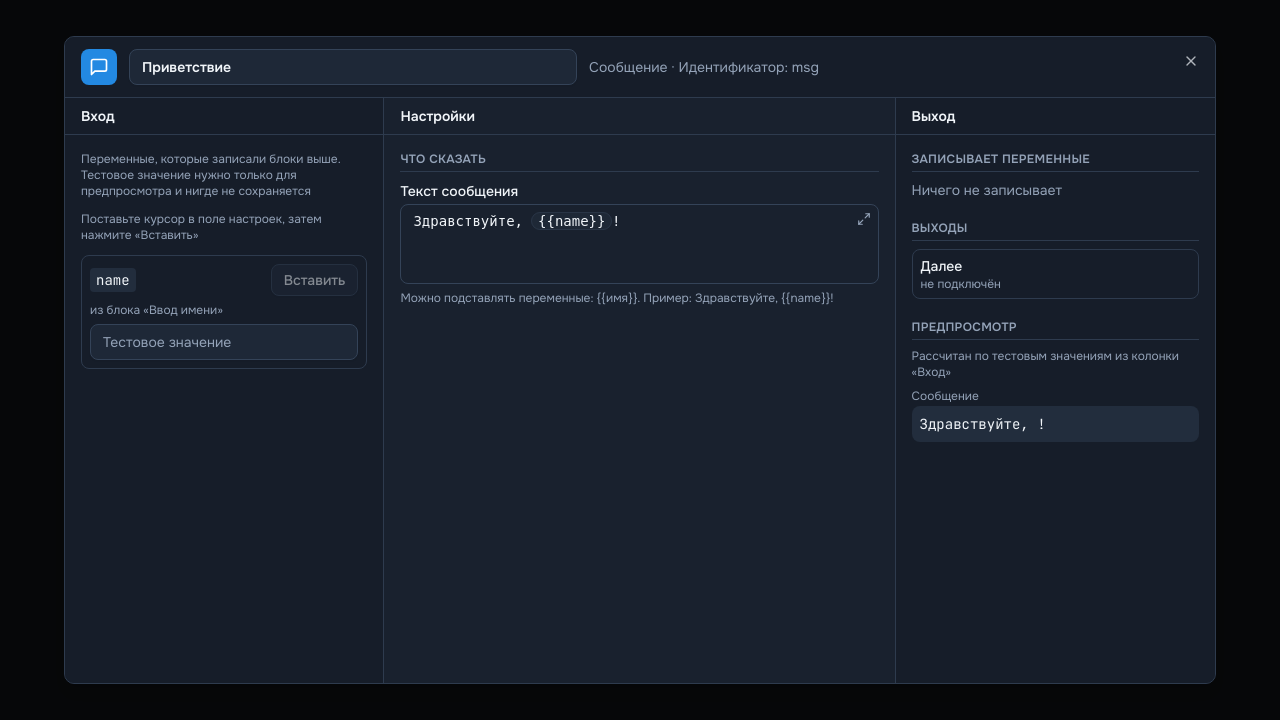
Test: BlockDialog › «Результат» в поле настроек использует тестовые значения из колонки «Вход»
Type "Анна" into the field named "Тестовое значение: name" at (224, 342), box [90,324,358,360]
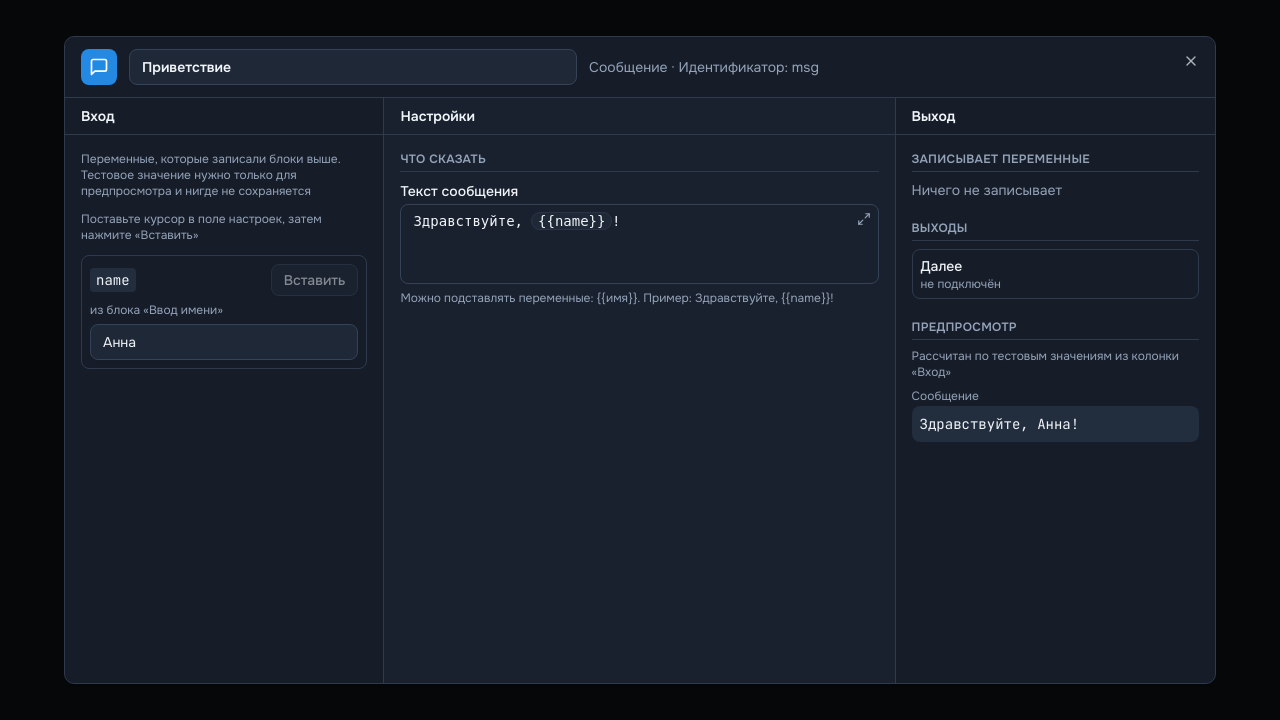
Focus the field named "Текст сообщения" at (517, 221), box [413,212,620,230]
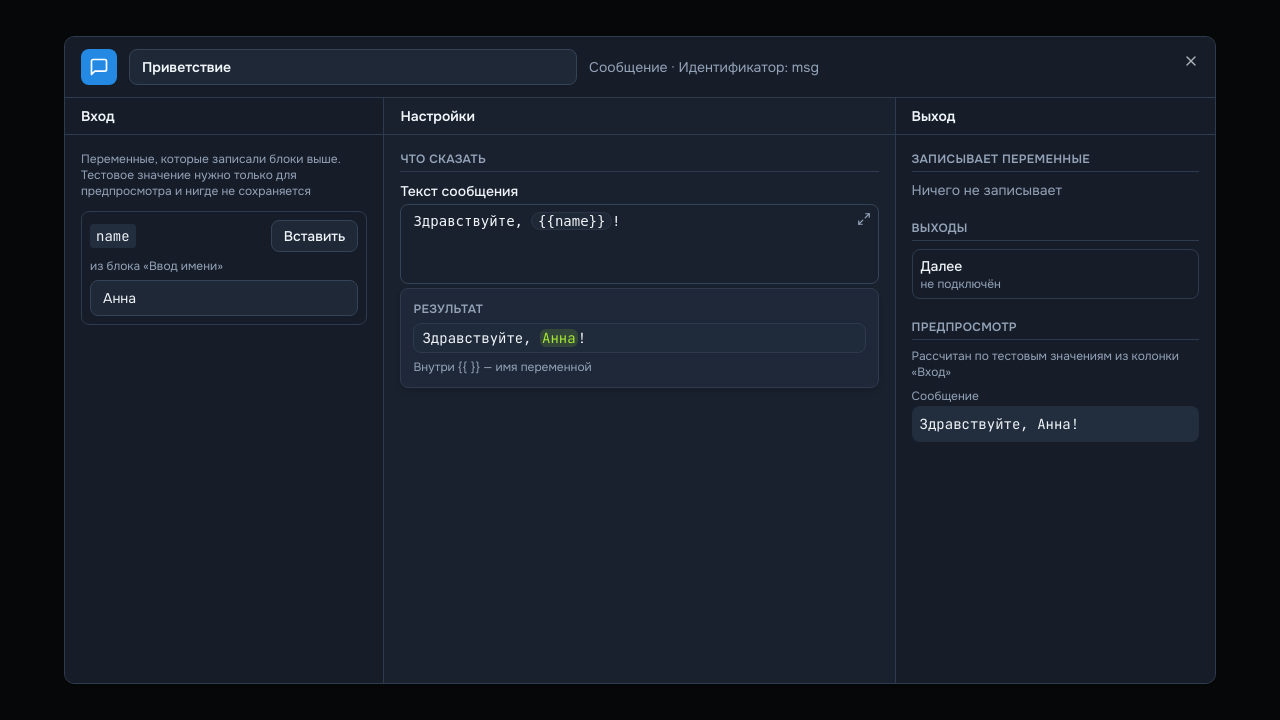
Expected: the element with test id "result-value" reads "Здравствуйте, Анна!", [413,323,866,353]
